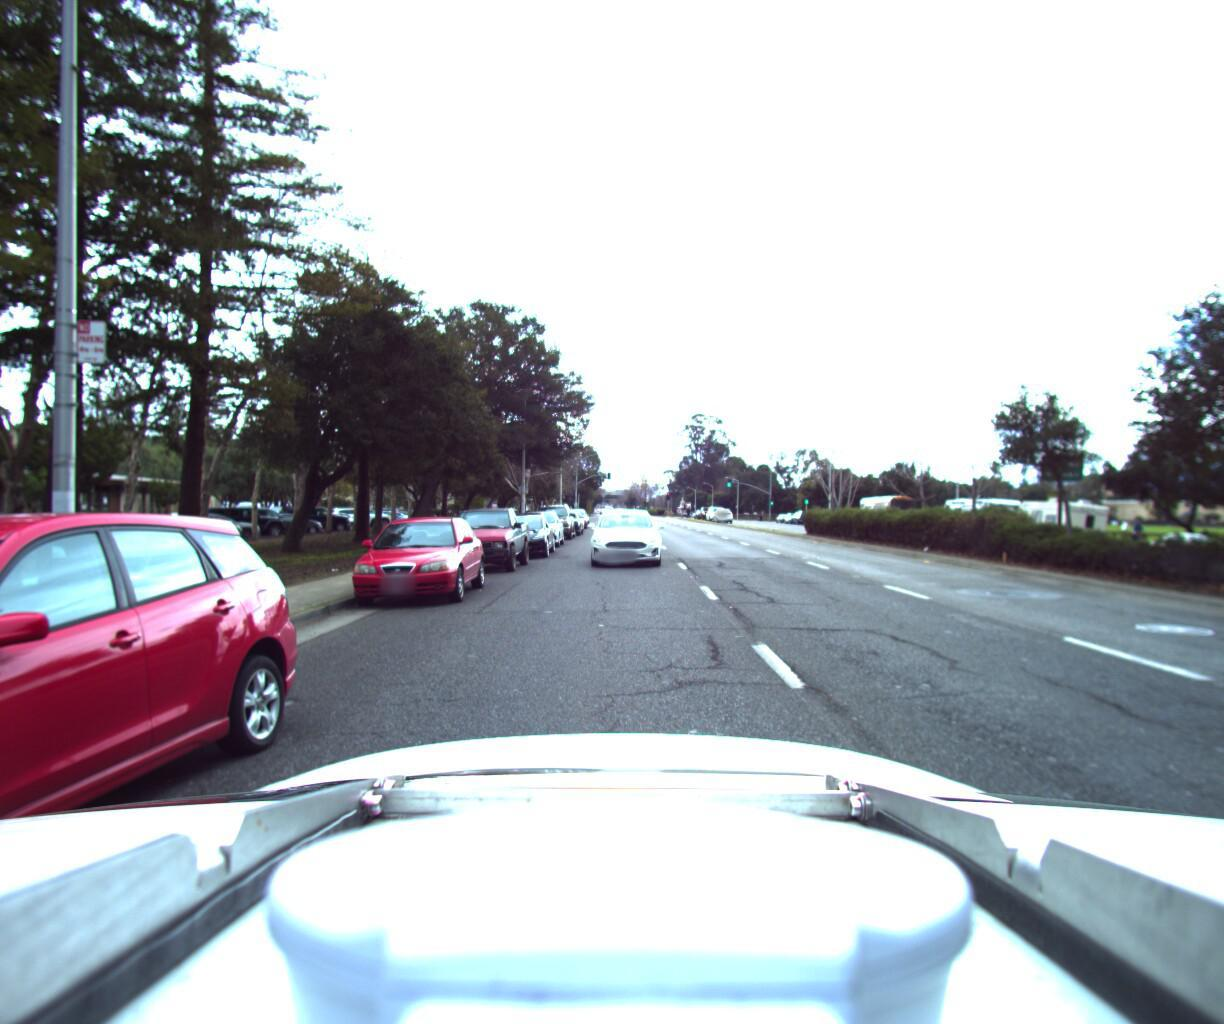bus: (856, 485, 917, 529)
car: (0, 502, 331, 1024), (338, 507, 497, 612), (438, 497, 534, 571), (583, 503, 662, 567), (489, 502, 559, 557), (515, 502, 566, 544), (531, 494, 578, 536), (1211, 522, 1224, 571)
other_vehicle: (1007, 486, 1114, 547), (936, 484, 1024, 541)
